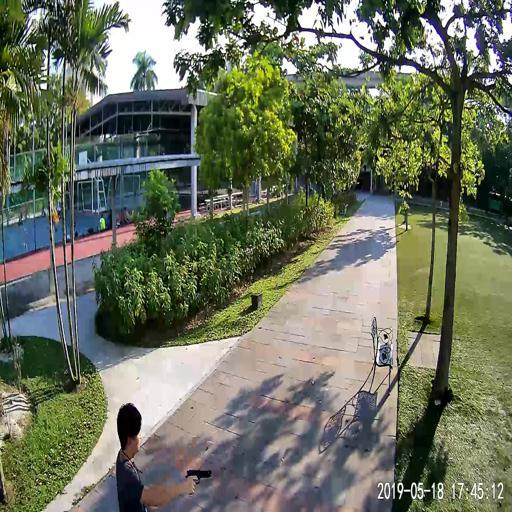Handgun: (183, 466, 211, 495)
